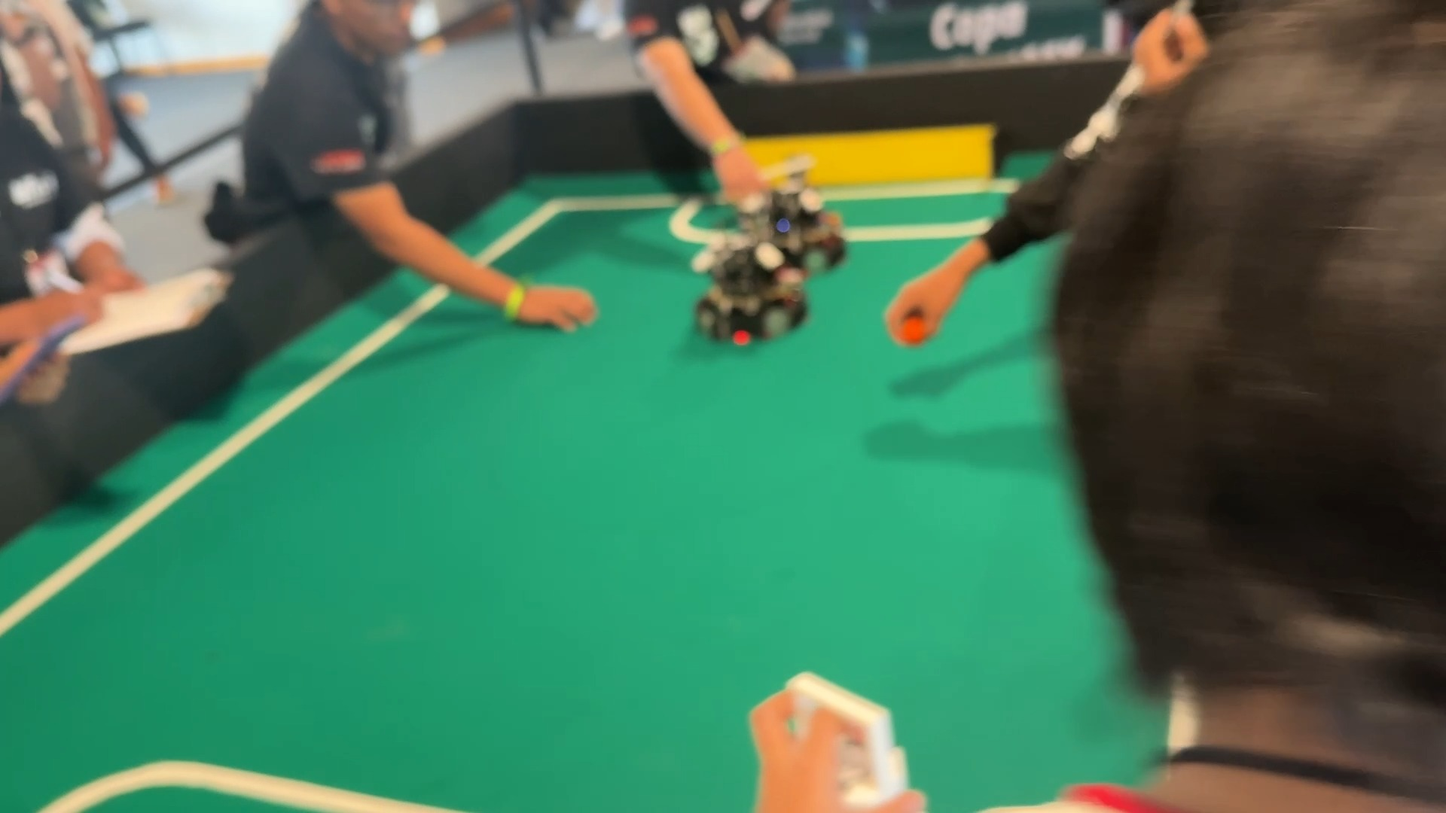Robot: (672, 193, 828, 363), (749, 142, 876, 277)
